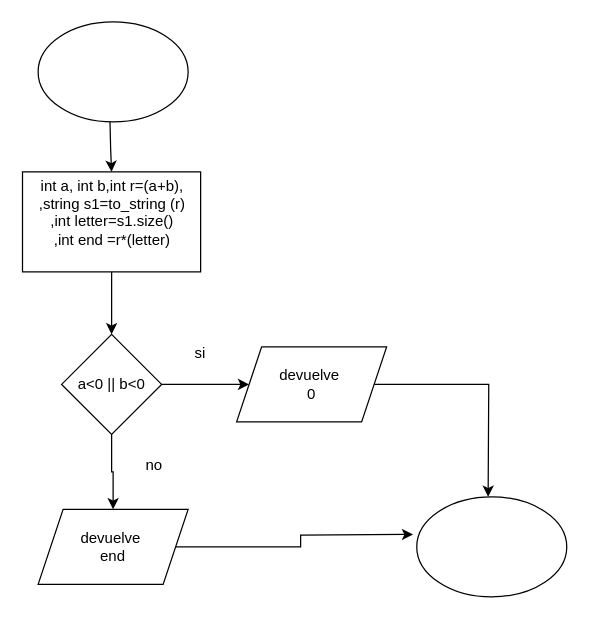
Some shapes in this 589 by 619 pixel diagram are drawn without their labels. The shapes that lost their labels are listed below. From the top down, each one's centre as x and y in pixels, then its label:
the point at 112,71: INCIO 10
the point at 491,546: FIN
